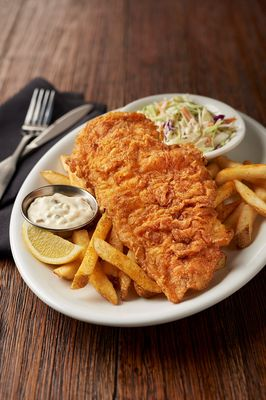taco: (23, 224, 84, 266)
